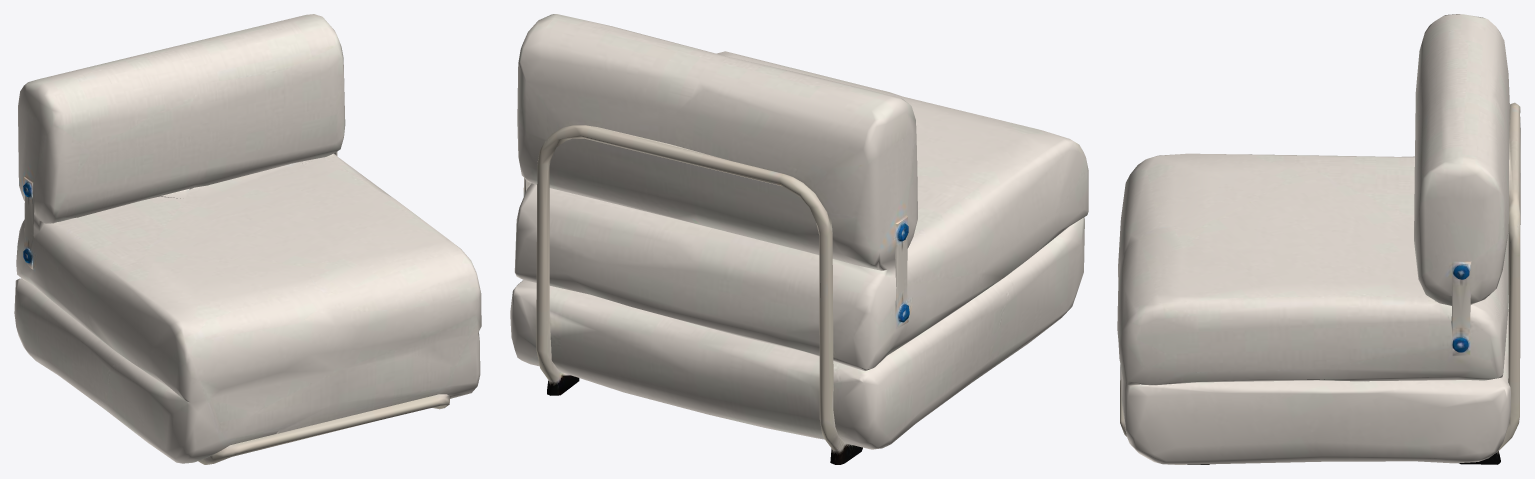
File: 38 - IKEA PS 2026 Chair-bed - Skiftebo light grey-beige.glb
3 renders of one model, left to right at view 1: azimuth 30°, elevation 25°; view 2: azimuth 150°, elevation 25°; view 3: azimuth 270°, elevation 25°, orthographic. The views are drawn at different scales.
Parts seen in each view (by area): view 1: ASY_ART_00620359_S01_NV01; view 2: ASY_ART_00620359_S01_NV01; view 3: ASY_ART_00620359_S01_NV01.
Part boxes in pixels (x1,y1,x2,y2): ASY_ART_00620359_S01_NV01: (14,14,481,464); ASY_ART_00620359_S01_NV01: (510,14,1088,464); ASY_ART_00620359_S01_NV01: (1117,14,1520,464).
Size of the model in its own units: 0.8332 by 0.7491 by 0.867.
Materials: 1 (1 with a texture image).
